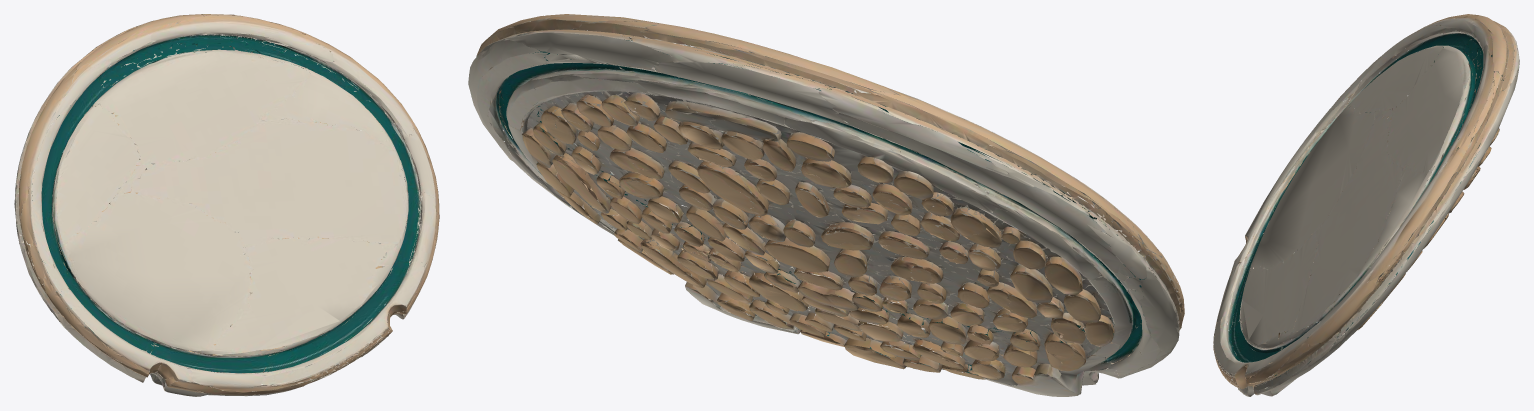
The model's file is handoff-03-true-size-plaque.glb.
The picture shows the model from 3 angles, left to right: view 1: azimuth 30°, elevation 25°; view 2: azimuth 150°, elevation 25°; view 3: azimuth 270°, elevation 25°; orthographic projection. The views are drawn at different scales.
Visible parts, largest first — view 1: handoff-plaque; view 2: handoff-plaque; view 3: handoff-plaque.
Boxes of the visible parts, <box> form: handoff-plaque: <box>14,14,439,396</box>; handoff-plaque: <box>468,14,1184,396</box>; handoff-plaque: <box>1213,14,1519,396</box>.
Size of the model in its own units: 2 by 1.34 by 1.19.
1 material, 1 textured.
